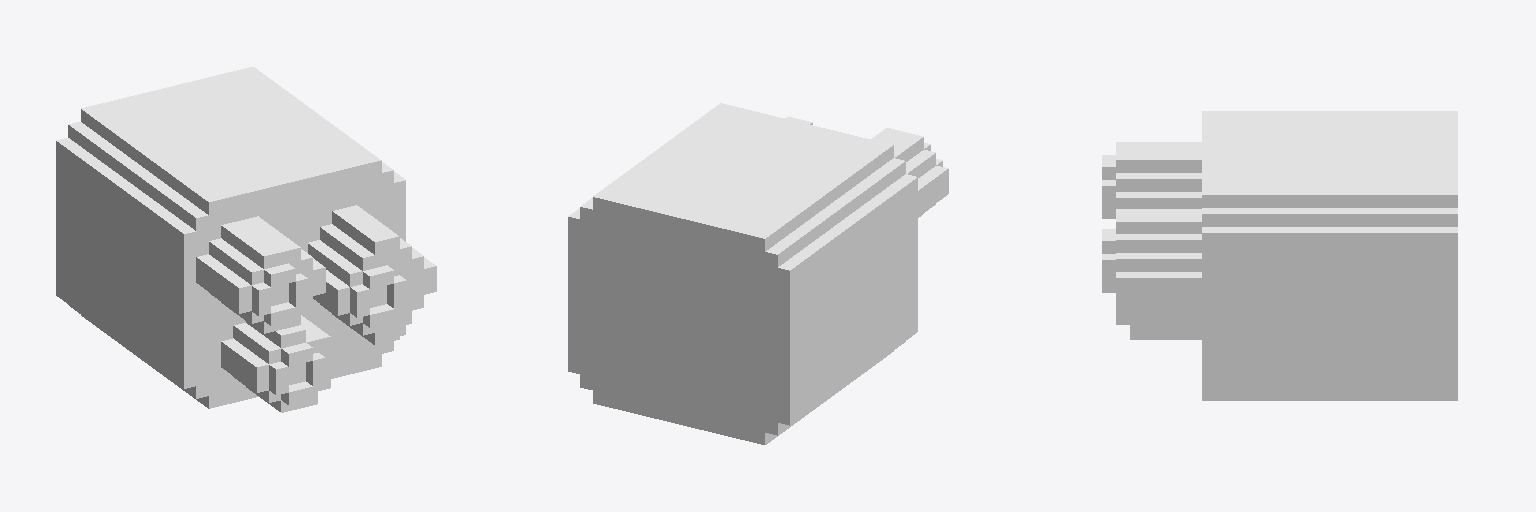
The model's file is LaserTower-0.obj.
The picture shows the model from 3 angles: view 1: azimuth 30°, elevation 25°; view 2: azimuth 150°, elevation 25°; view 3: azimuth 270°, elevation 25°; orthographic projection.
Parts seen in each view (by area): view 1: object 1; view 2: object 1; view 3: object 1.
Boxes of the visible parts, x1,y1,x2,y2 form: object 1: [56, 67, 436, 412]; object 1: [568, 103, 948, 444]; object 1: [1102, 111, 1457, 400].
Size of the model in its own units: 1.8 by 1.6 by 2.5.